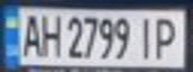2: (63, 11, 84, 58)
7: (81, 12, 100, 60)
9: (112, 14, 136, 61), (97, 13, 118, 60)
A: (15, 10, 45, 58)
H: (36, 11, 63, 58)
I: (133, 13, 157, 60)
P: (151, 14, 184, 61)
